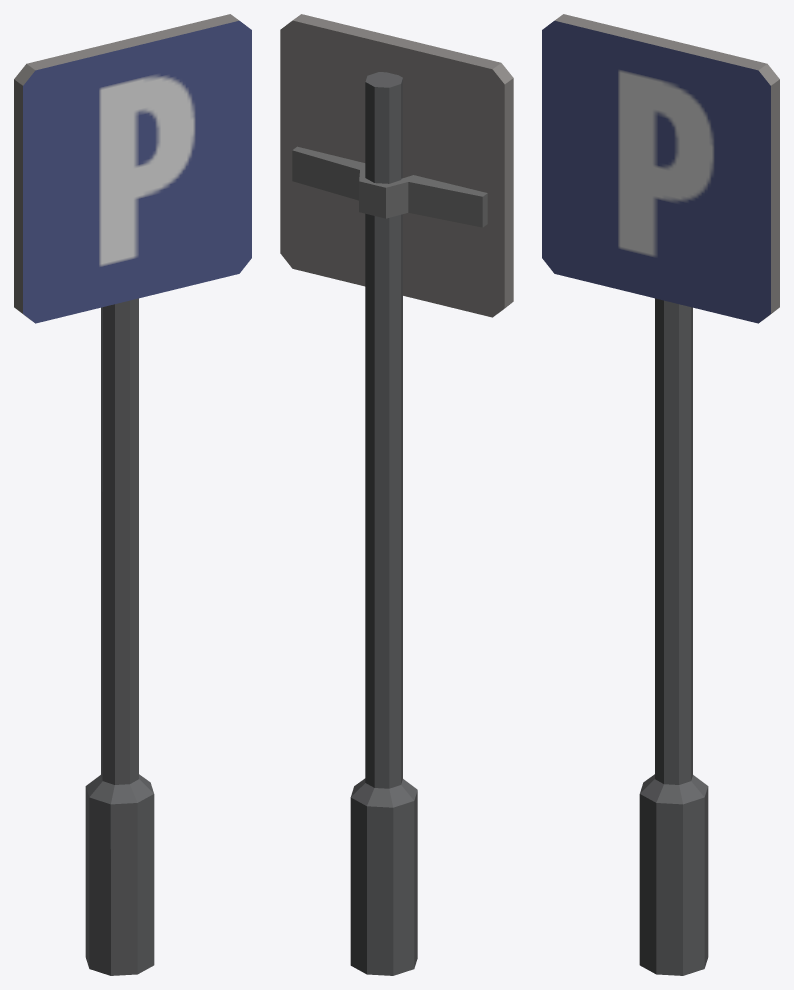
The model's file is SM_Prop_Sign_Parking_01.glb.
The picture shows the model from 3 angles, left to right: view 1: azimuth 30°, elevation 25°; view 2: azimuth 150°, elevation 25°; view 3: azimuth 330°, elevation 25°; orthographic projection.
Parts seen in each view (by area): view 1: SM_Prop_Sign_Parking_01; view 2: SM_Prop_Sign_Parking_01; view 3: SM_Prop_Sign_Parking_01.
Boxes of the visible parts, x1=… form: SM_Prop_Sign_Parking_01: x1=14, y1=14, x2=251, y2=975; SM_Prop_Sign_Parking_01: x1=280, y1=14, x2=513, y2=975; SM_Prop_Sign_Parking_01: x1=542, y1=14, x2=779, y2=975.
Bounding box in the file's own units: 0.00443 × 0.0172 × 0.00119.
Materials: 1 (1 with a texture image).
